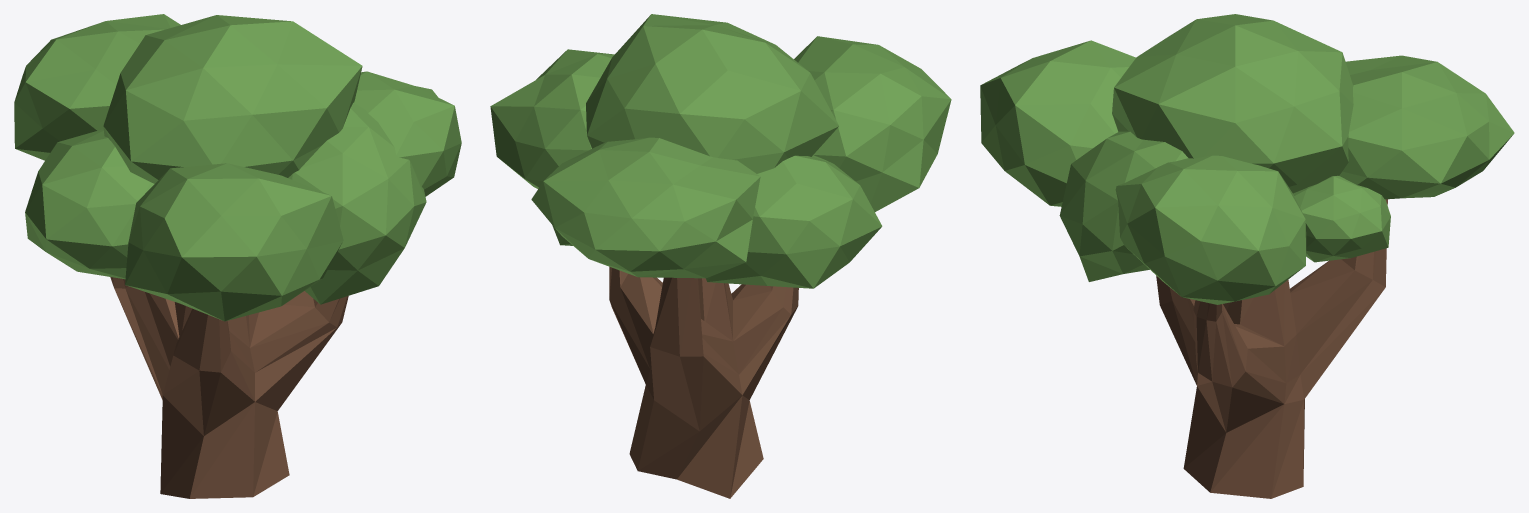
File: Bush_Flat.FBX
3 views of the same model, side by side, from view 1: azimuth 30°, elevation 25°; view 2: azimuth 150°, elevation 25°; view 3: azimuth 270°, elevation 25° (orthographic). The views are drawn at different scales.
Visible parts, largest first — view 1: GeoSphere013, Cylinder003, GeoSphere015, GeoSphere019, GeoSphere017, GeoSphere016, GeoSphere014; view 2: Cylinder003, GeoSphere013, GeoSphere016, GeoSphere015, GeoSphere017, GeoSphere014; view 3: Cylinder003, GeoSphere013, GeoSphere014, GeoSphere016, GeoSphere015, GeoSphere019, GeoSphere018.
Part boxes in pixels (box(x1,y1,x2,y2)): GeoSphere013: box(103, 15, 362, 183); Cylinder003: box(110, 277, 348, 498); GeoSphere015: box(125, 163, 343, 321); GeoSphere019: box(288, 102, 426, 304); GeoSphere017: box(25, 129, 154, 279); GeoSphere016: box(14, 14, 180, 160); GeoSphere014: box(354, 71, 461, 196); Cylinder003: box(609, 267, 798, 498); GeoSphere013: box(586, 14, 838, 173); GeoSphere016: box(531, 137, 760, 278); GeoSphere015: box(794, 36, 951, 211); GeoSphere017: box(706, 155, 882, 288); GeoSphere014: box(490, 49, 614, 188); Cylinder003: box(1156, 199, 1387, 498); GeoSphere013: box(1112, 14, 1353, 193); GeoSphere014: box(1115, 155, 1306, 304); GeoSphere016: box(1339, 55, 1514, 199); GeoSphere015: box(980, 40, 1135, 206); GeoSphere019: box(1059, 131, 1187, 281); GeoSphere018: box(1293, 175, 1390, 262).
Size of the model in its own units: 9.62 by 10.8 by 11.27.
